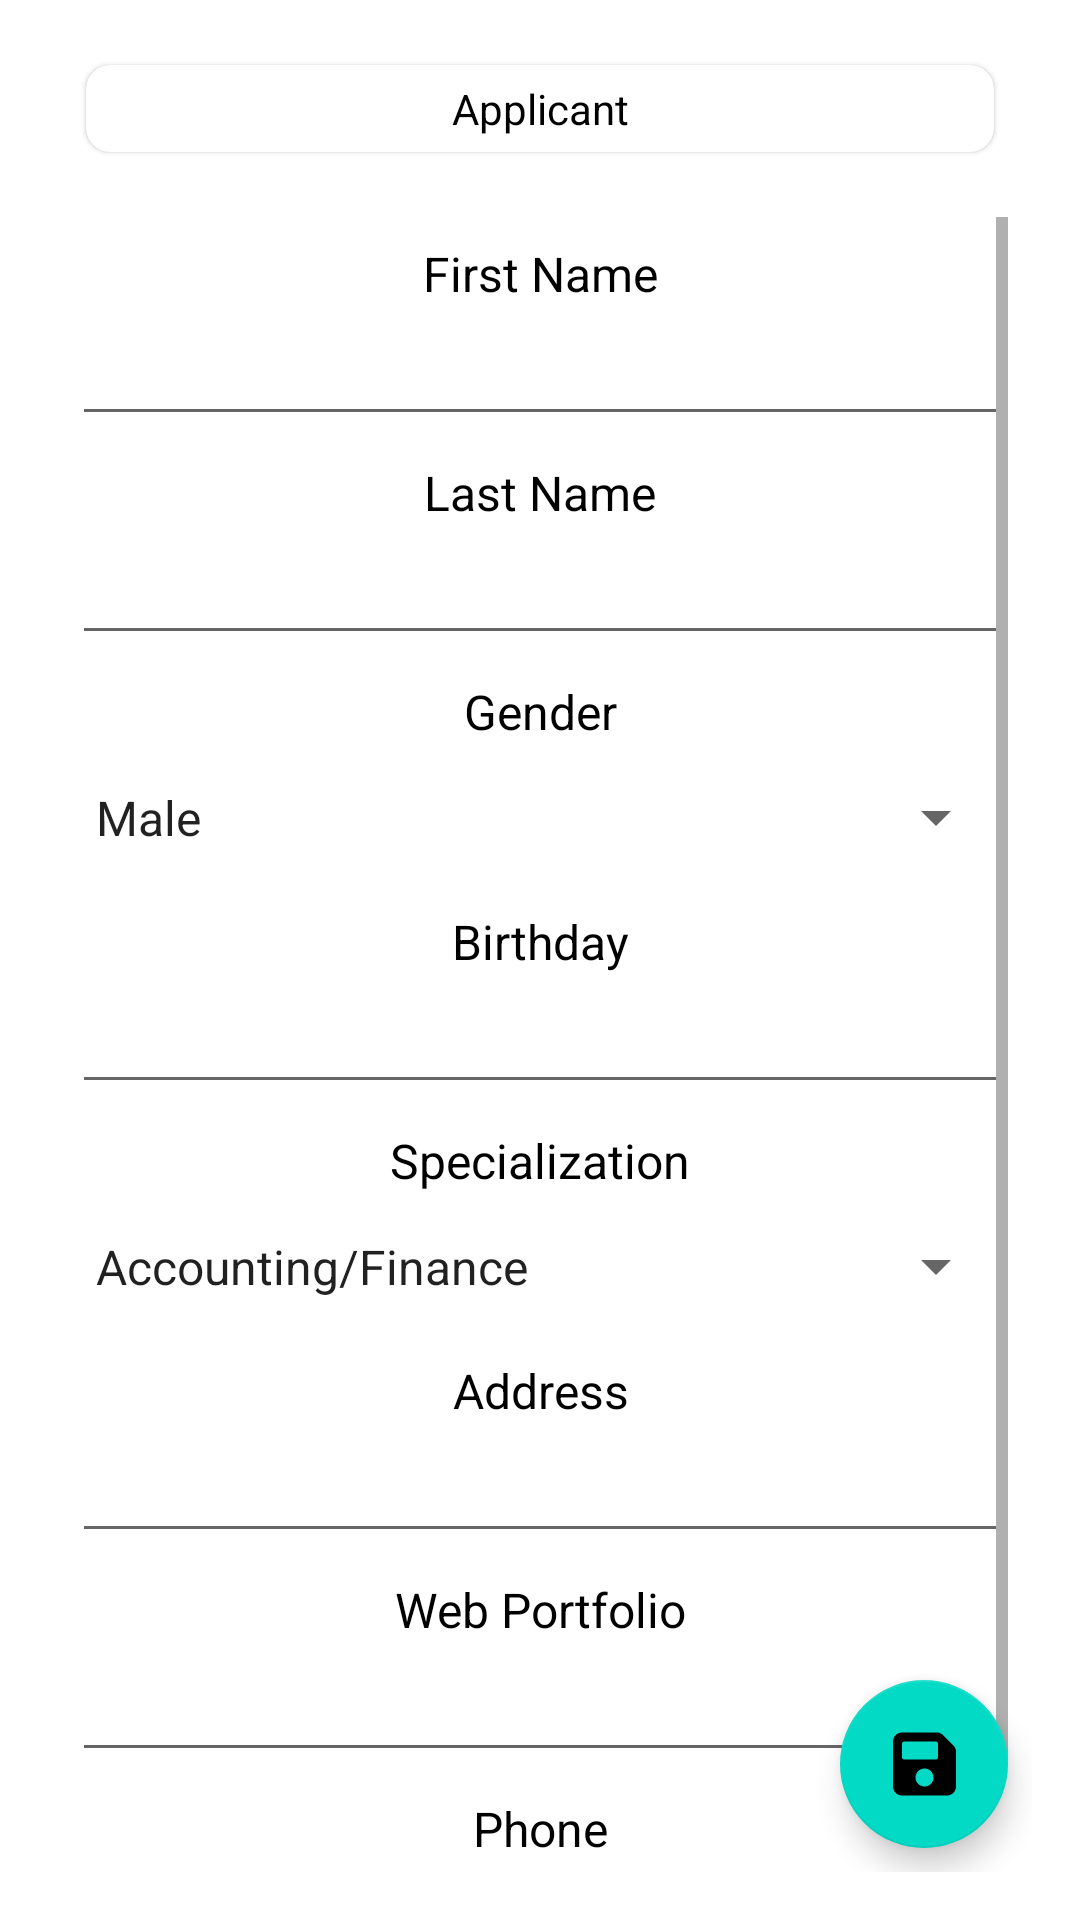

Locate icon controls on the screen. Image size 1080 × 1920, boxes as [x1,y1,x2,y2].
save: [840,1680,1008,1848]
